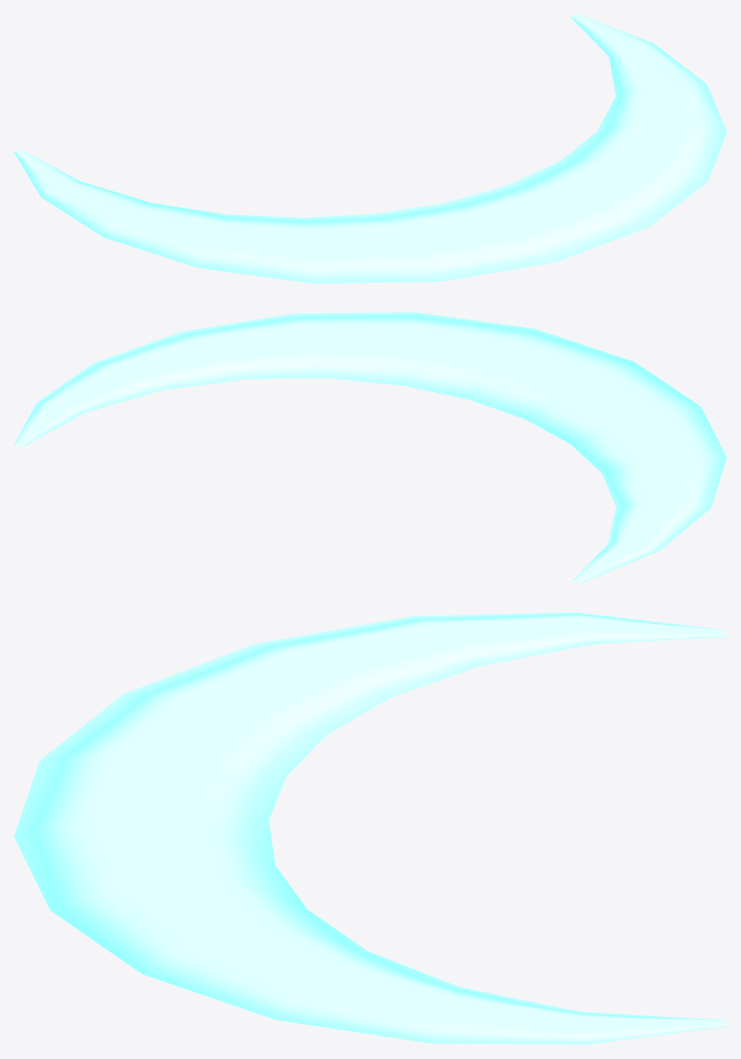
File: vfx_slash_cyan.glb
3 renders of one model, top to bottom at view 1: azimuth 30°, elevation 25°; view 2: azimuth 150°, elevation 25°; view 3: azimuth 270°, elevation 25°, orthographic. The views are drawn at different scales.
Parts seen in each view (by area): view 1: VfxRoot; view 2: VfxRoot; view 3: VfxRoot.
Part boxes in pixels (x1,y1,x2,y2): VfxRoot: (14,14,726,283); VfxRoot: (14,312,726,583); VfxRoot: (14,612,726,1044).
Bounding box in the file's own units: 2.7 × 0.07 × 1.88.
